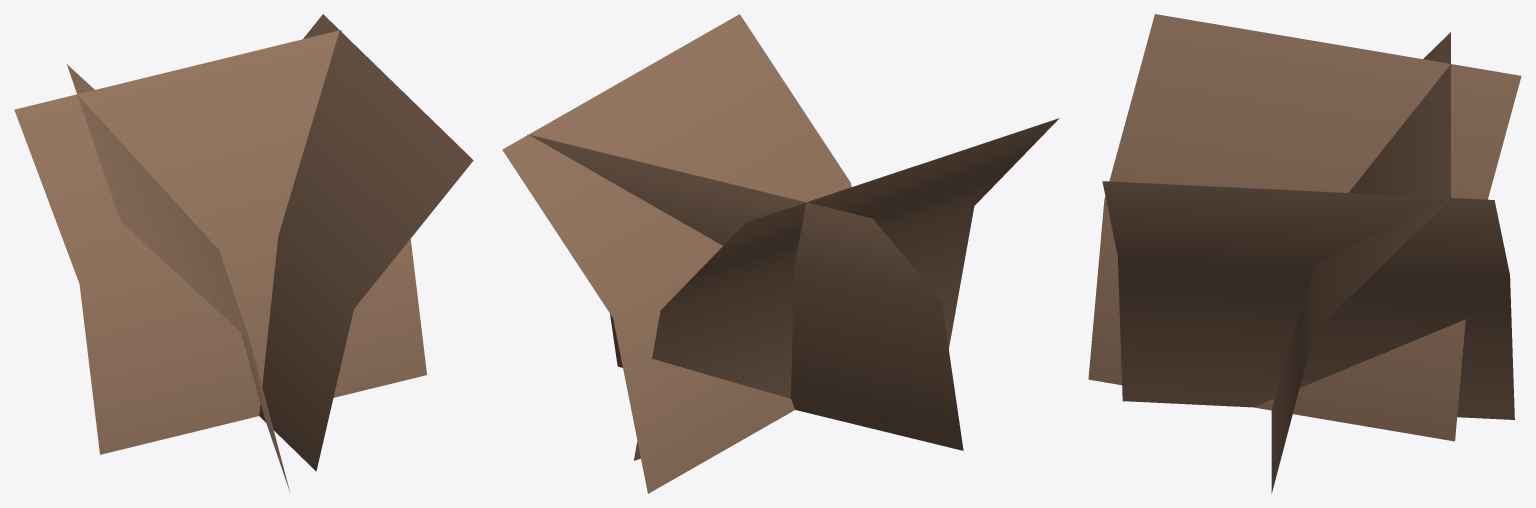
Rendered from GrassPlanes_b_TwoS_05.fbx.
3 renders of one model, left to right at view 1: azimuth 30°, elevation 25°; view 2: azimuth 150°, elevation 25°; view 3: azimuth 270°, elevation 25°, orthographic. The views are drawn at different scales.
Parts seen in each view (by area): view 1: GrassPlanes_b_TwoS_05; view 2: GrassPlanes_b_TwoS_05; view 3: GrassPlanes_b_TwoS_05.
Boxes of the visible parts, box(x1,y1,x2,y2) form: GrassPlanes_b_TwoS_05: box(14, 14, 473, 492); GrassPlanes_b_TwoS_05: box(502, 14, 1059, 493); GrassPlanes_b_TwoS_05: box(1088, 14, 1521, 493).
Size of the model in its own units: 66.92 by 49.51 by 65.82.
